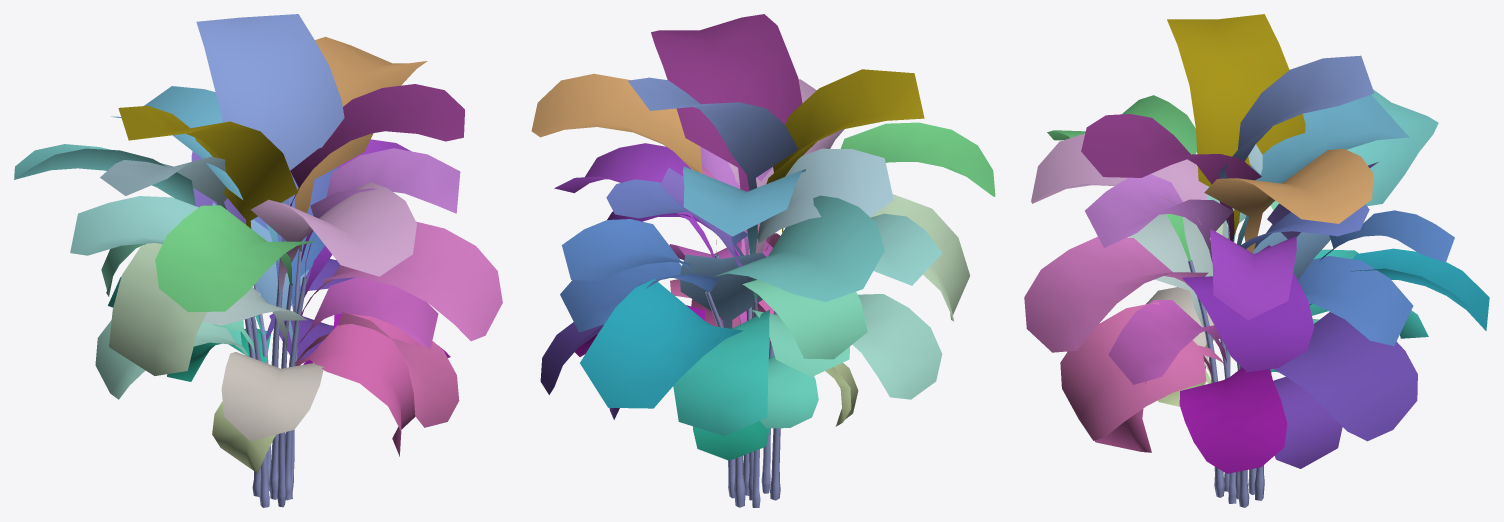
3 renders of one model, left to right at view 1: azimuth 30°, elevation 25°; view 2: azimuth 150°, elevation 25°; view 3: azimuth 270°, elevation 25°, orthographic. The views are drawn at different scales.
Visible parts, largest first — view 1: SM_BS_ArecaPalm_220cm_HD; view 2: SM_BS_ArecaPalm_220cm_HD; view 3: SM_BS_ArecaPalm_220cm_HD.
Part boxes in pixels (x1,y1,x2,y2): SM_BS_ArecaPalm_220cm_HD: (14, 14, 502, 507); SM_BS_ArecaPalm_220cm_HD: (531, 14, 995, 507); SM_BS_ArecaPalm_220cm_HD: (1024, 14, 1489, 507).
Size of the model in its own units: 73.67 by 66.93 by 75.77.
